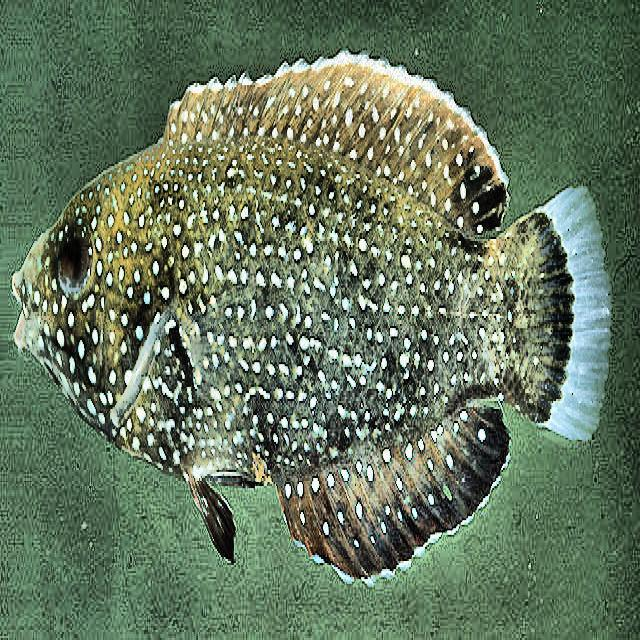fish: (9, 49, 608, 592)
